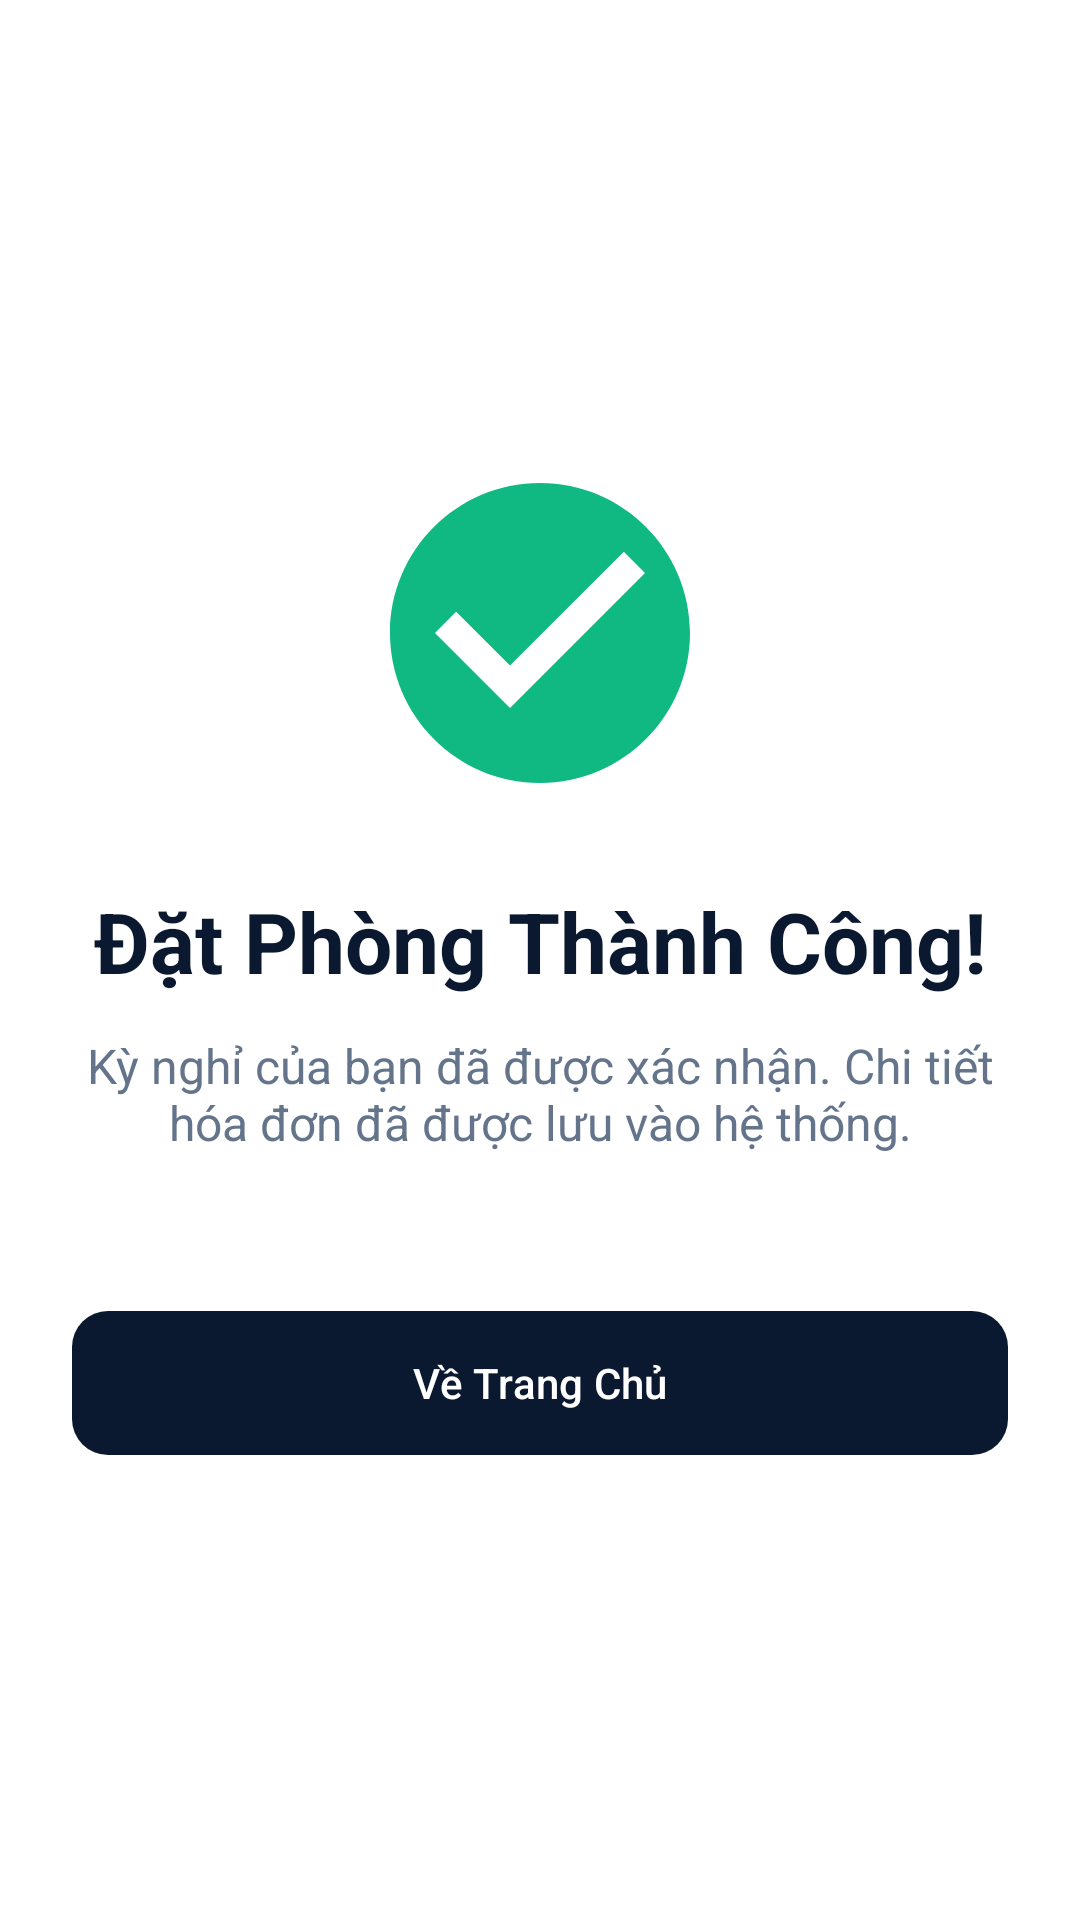

Where to tap for icons on this 1080px×1920px app screen, as point (x, y):
check circle: point (540, 633)
